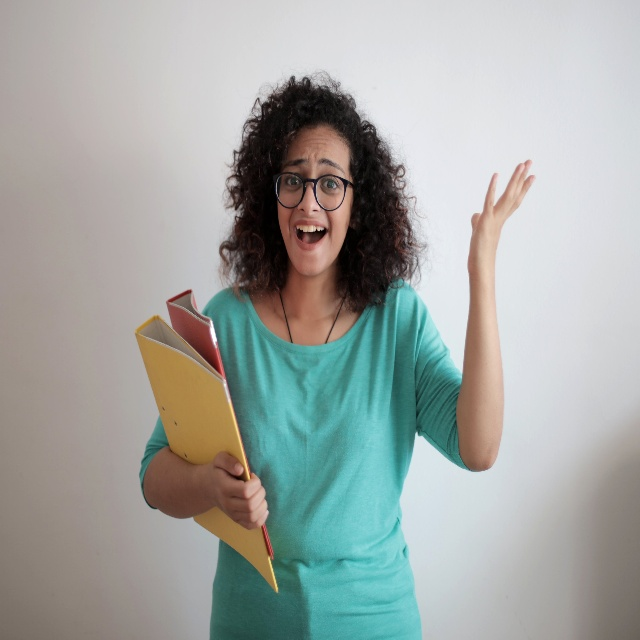Gafas: (273, 170, 356, 212)
Sin_guantes: (467, 159, 536, 276), (212, 452, 269, 531)
